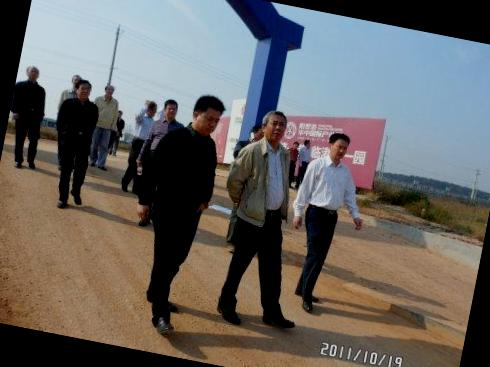no_helmet: (184, 90, 229, 142), (260, 106, 290, 148), (321, 127, 354, 164), (72, 75, 94, 104), (21, 61, 43, 86), (159, 96, 180, 122), (142, 96, 159, 123), (100, 82, 118, 101)
